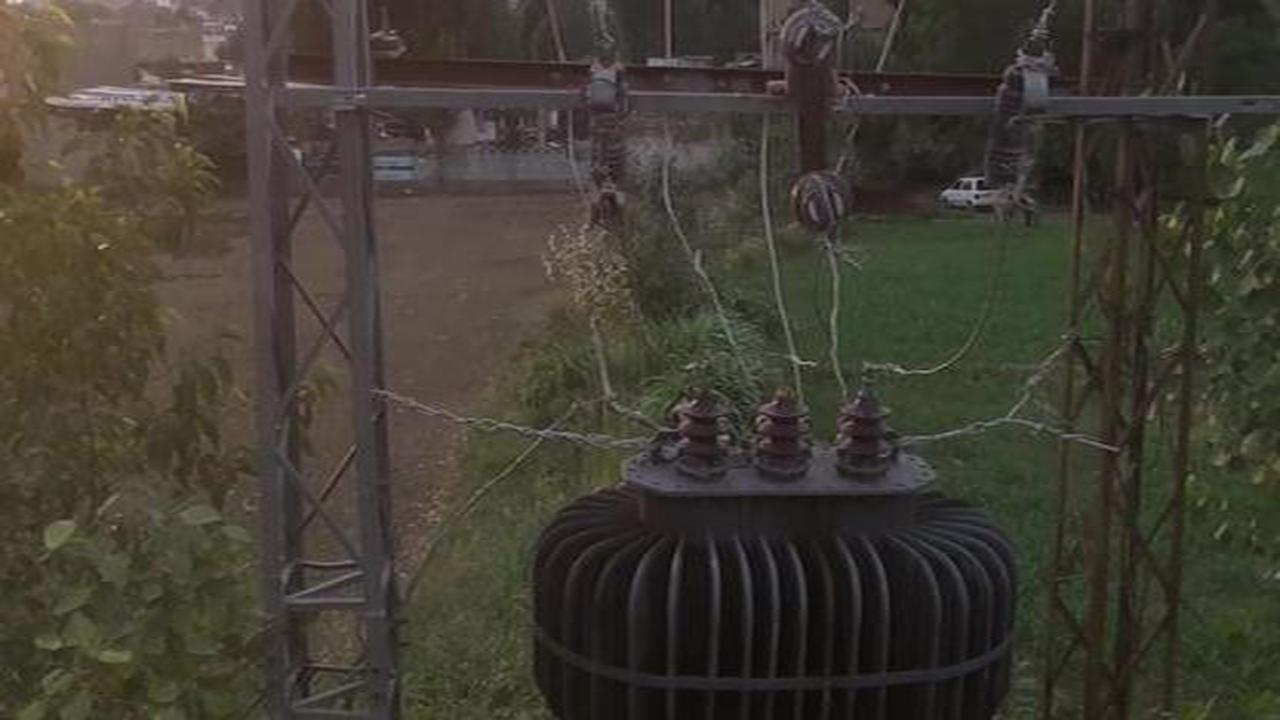insulator_pin: (786, 166, 850, 236), (777, 17, 847, 76)
